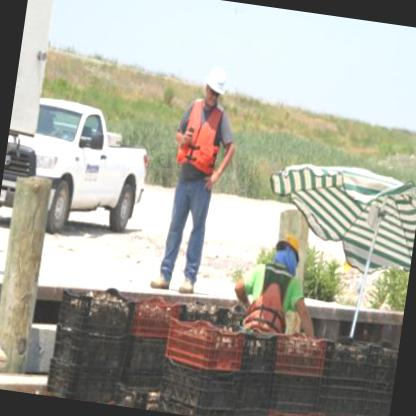truck: (0, 96, 155, 246)
